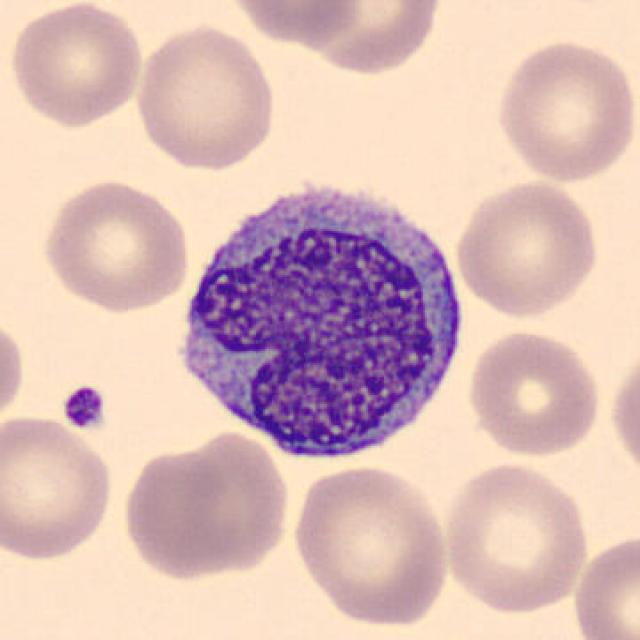monocyte: (178, 184, 488, 459)
platelets: (64, 377, 104, 430)
rbc: (29, 166, 196, 328), (300, 463, 450, 639), (138, 22, 288, 180), (452, 165, 602, 320), (462, 314, 610, 459), (454, 462, 588, 611), (500, 34, 625, 187), (0, 414, 115, 578), (8, 3, 150, 127), (125, 447, 247, 591), (188, 425, 297, 567), (300, 0, 442, 77), (562, 528, 640, 640), (217, 0, 364, 50)
